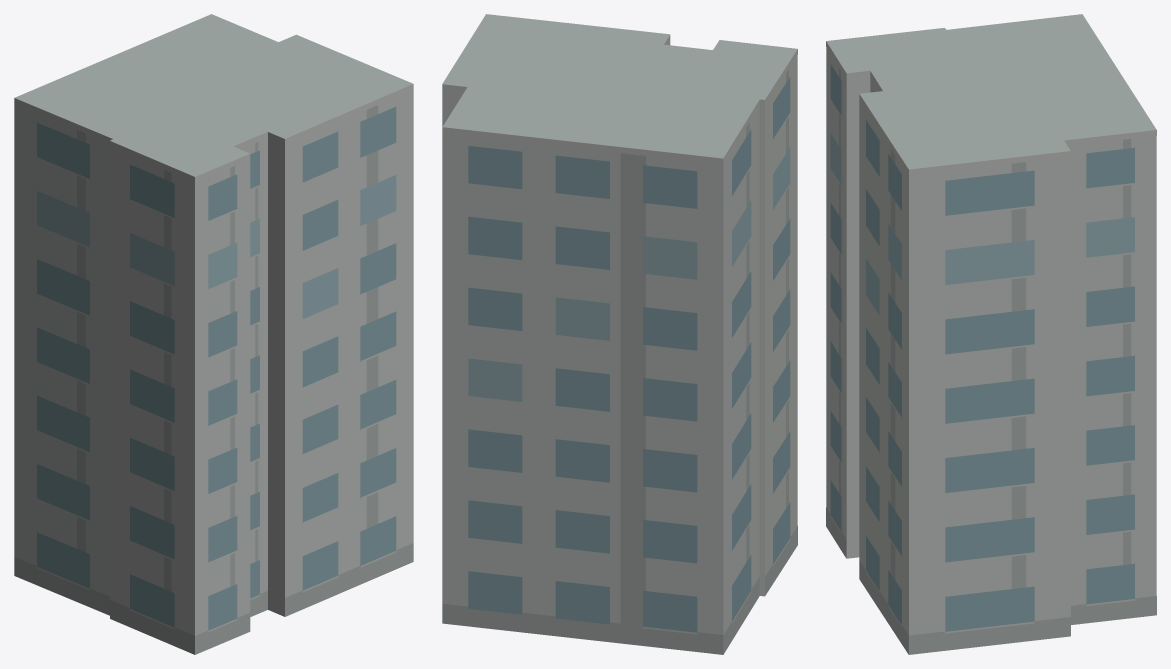
The model's file is survey-upis-32823187.glb.
3 renders of one model, left to right at view 1: azimuth 30°, elevation 25°; view 2: azimuth 150°, elevation 25°; view 3: azimuth 270°, elevation 25°, orthographic. The views are drawn at different scales.
Parts seen in each view (by area): view 1: survey-upis-32823187.tmp; view 2: survey-upis-32823187.tmp; view 3: survey-upis-32823187.tmp.
Boxes of the visible parts, x1,y1,x2,y2 form: survey-upis-32823187.tmp: (14, 14, 413, 654); survey-upis-32823187.tmp: (442, 14, 797, 654); survey-upis-32823187.tmp: (826, 14, 1156, 654).
Size of the model in its own units: 13.69 by 19.91 by 12.31.
